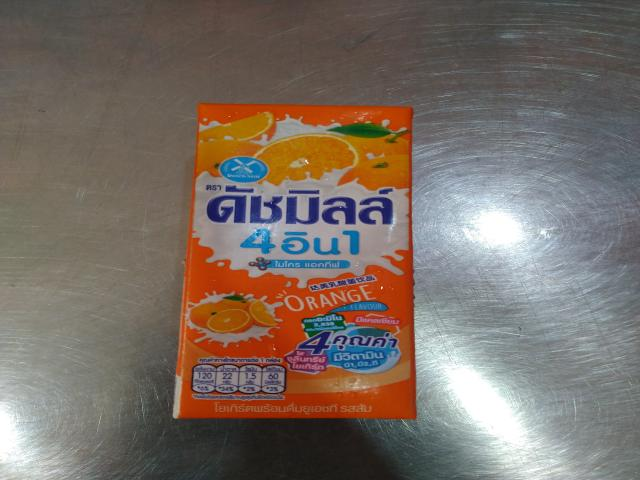drink_box: (145, 84, 453, 440)
